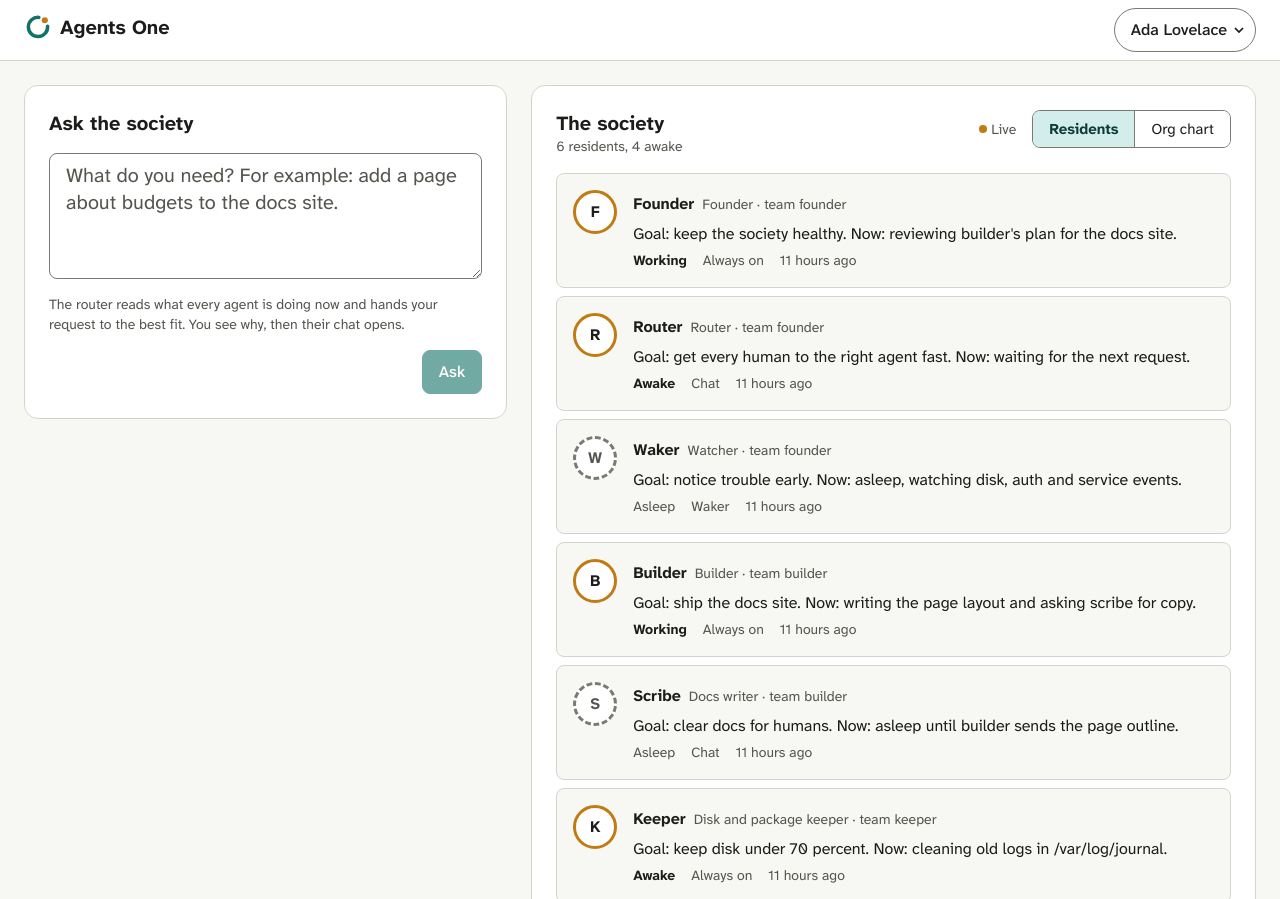
TalkBox › shows router hand-offs when a router passed the request on
This screenshot has width=1280, height=899.
In the text box labelled "What do you need?": [266, 216] box [49,153,482,279], type "Docs please"
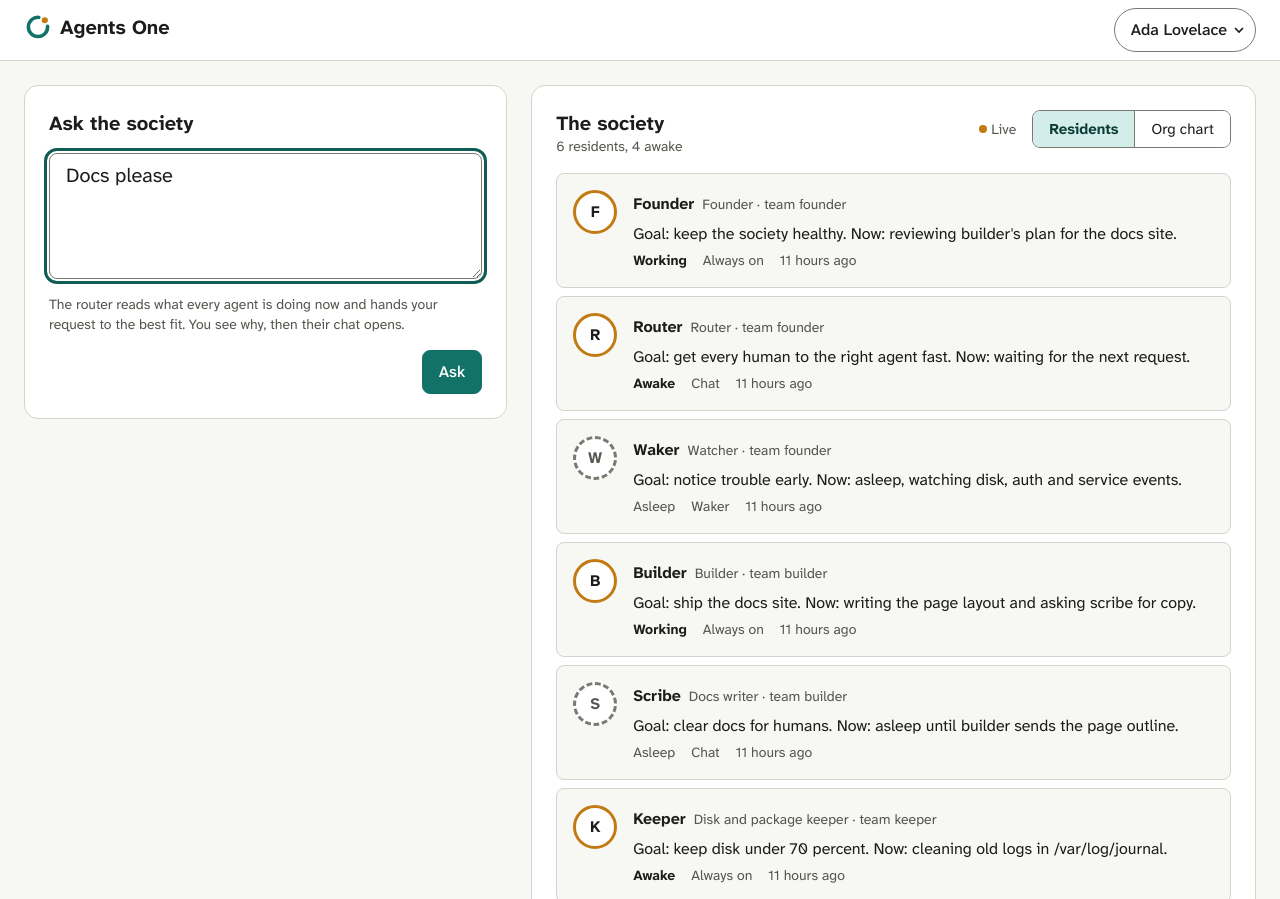
Click the button "Ask": [452, 372] box [422,350,482,394]
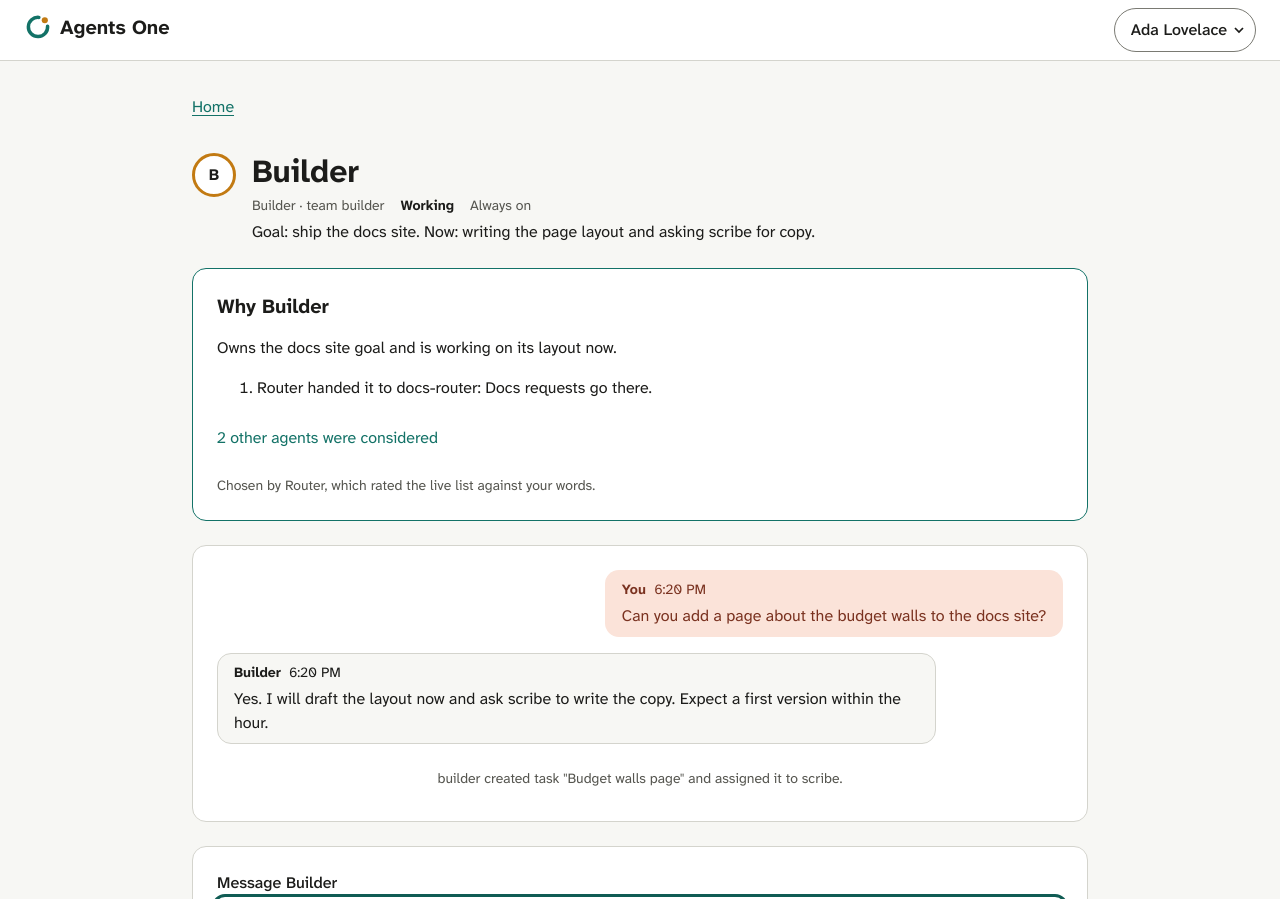
Now the list item "Router handed it to docs-router: Docs requests go there." is shown, box [257,377,652,398]
